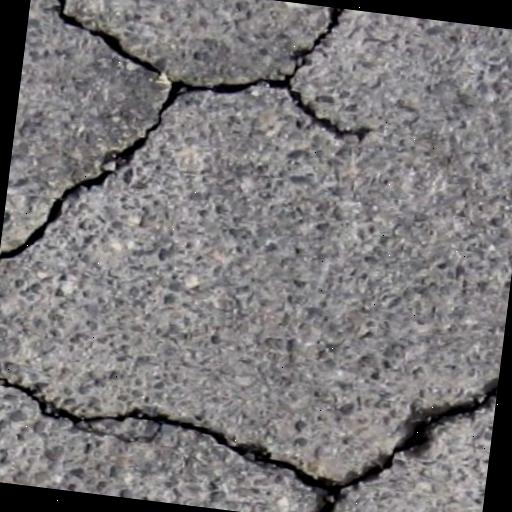spalling: (0, 0, 378, 267), (0, 372, 322, 492), (307, 376, 493, 512)
